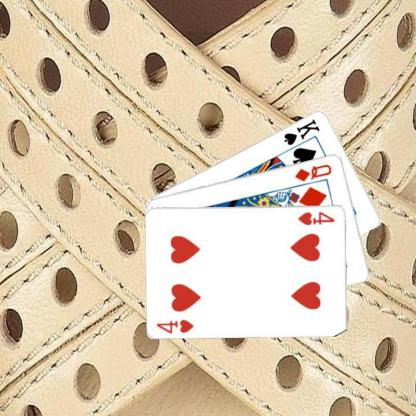4H: (154, 316, 195, 335), (296, 208, 336, 226)
KS: (281, 116, 321, 146)
QD: (292, 161, 334, 183)
